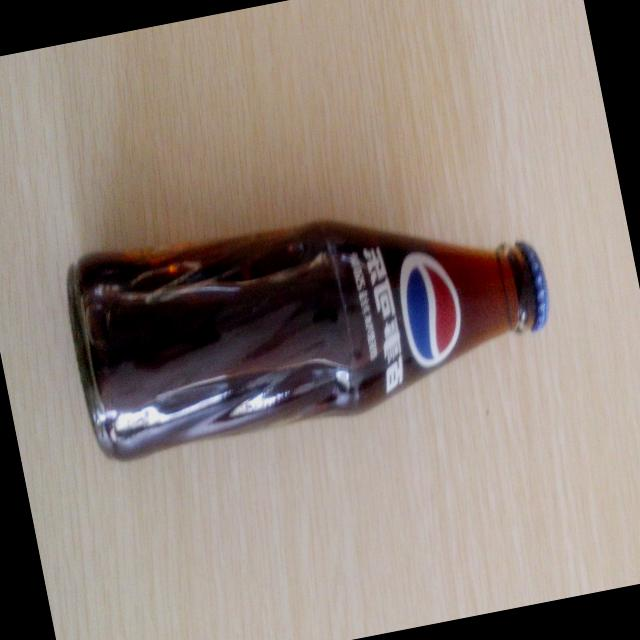bottle: (56, 172, 568, 476)
